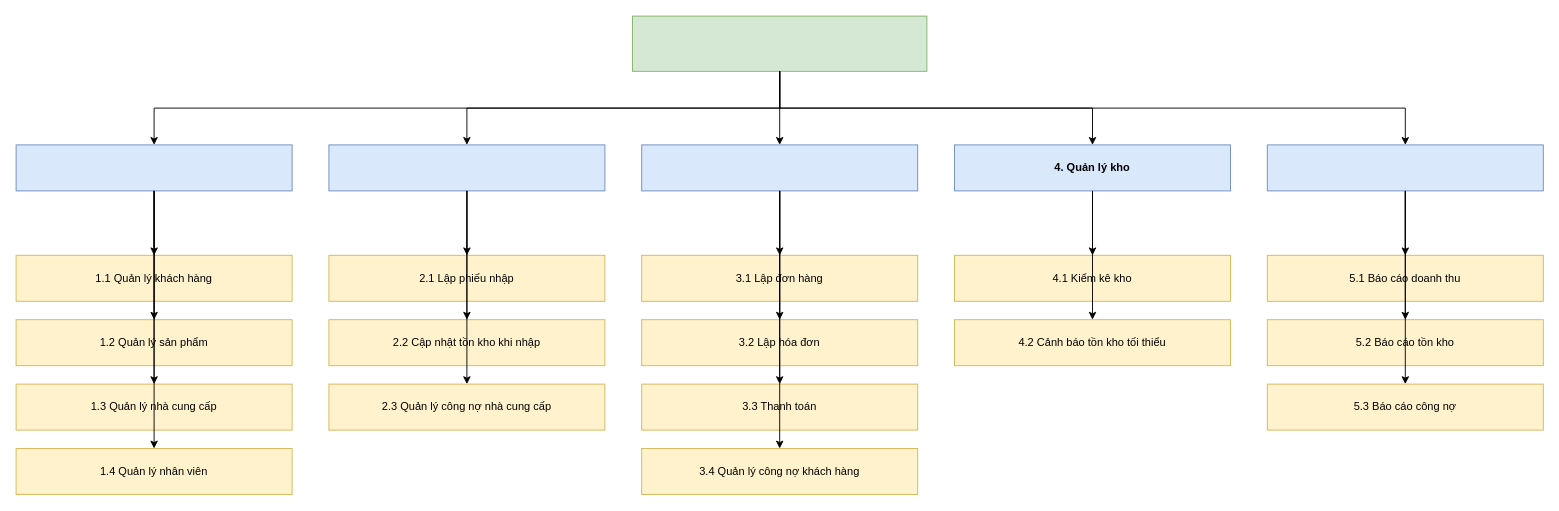
The diagram is 1559 pixels wide and 511 high, and some of its shapes have lost their labels. Here are the shapes that lost their labels. From the top down, the centre of each, then its label:
the point at 779,43: HỆ THỐNG QUẢN LÝ BÁN HÀNG
the point at 153,167: 1. Quản lý danh mục
the point at 466,167: 2. Quản lý nhập hàng
the point at 779,167: 3. Quản lý bán hàng
the point at 1404,167: 5. Báo cáo - thống kê
